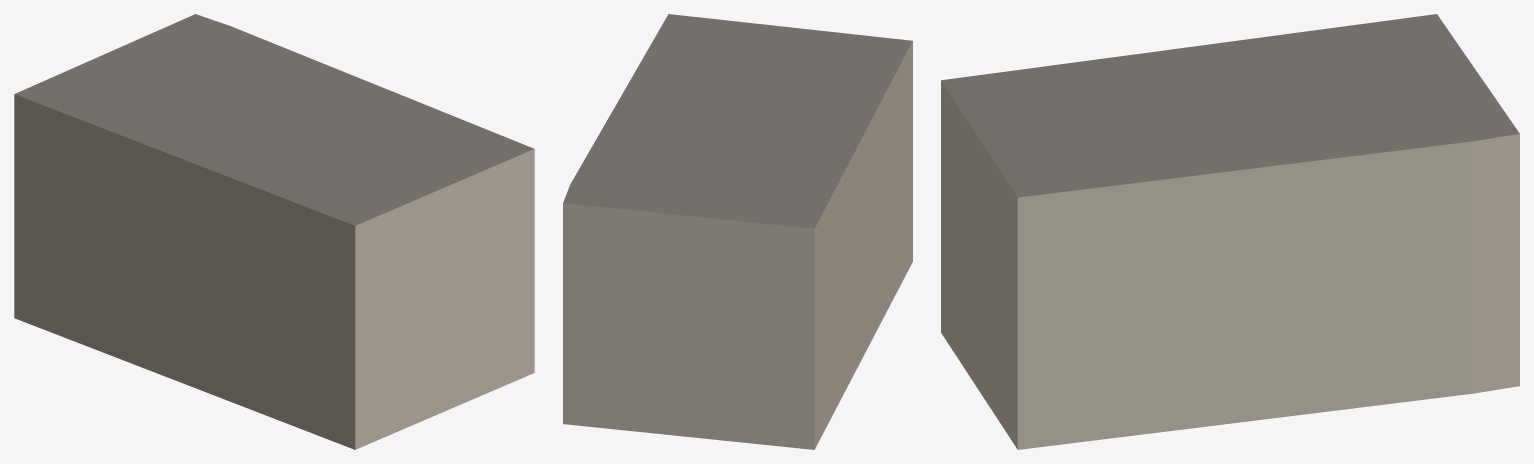
3 views of the same model, side by side, from view 1: azimuth 30°, elevation 25°; view 2: azimuth 150°, elevation 25°; view 3: azimuth 270°, elevation 25° (orthographic). The views are drawn at different scales.
Visible parts, largest first — view 1: HP-w495116055; view 2: HP-w495116055; view 3: HP-w495116055.
Boxes of the visible parts, box(x1,y1,x2,y2) form: HP-w495116055: box(14, 14, 534, 449); HP-w495116055: box(563, 14, 912, 449); HP-w495116055: box(941, 14, 1519, 449).
Size of the model in its own units: 23.41 by 15 by 31.19.
